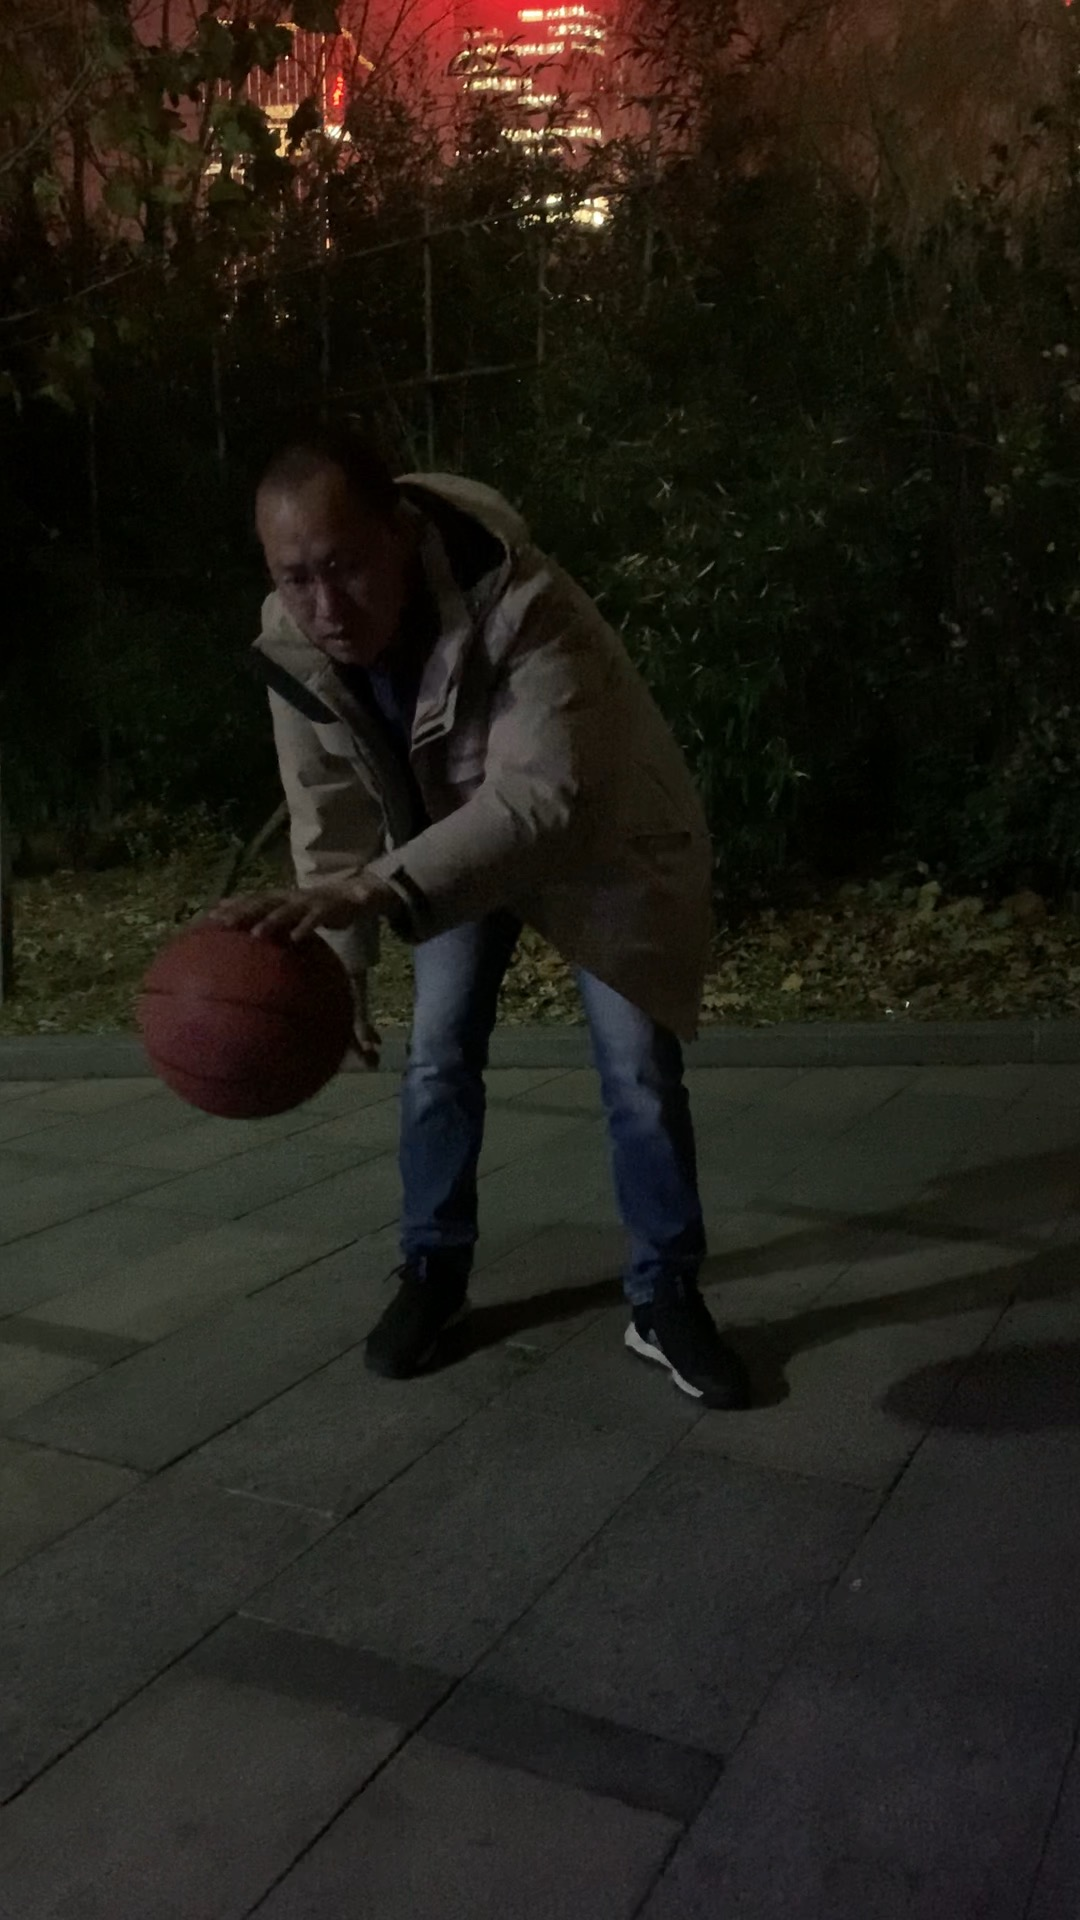ball: (142, 905, 357, 1120)
